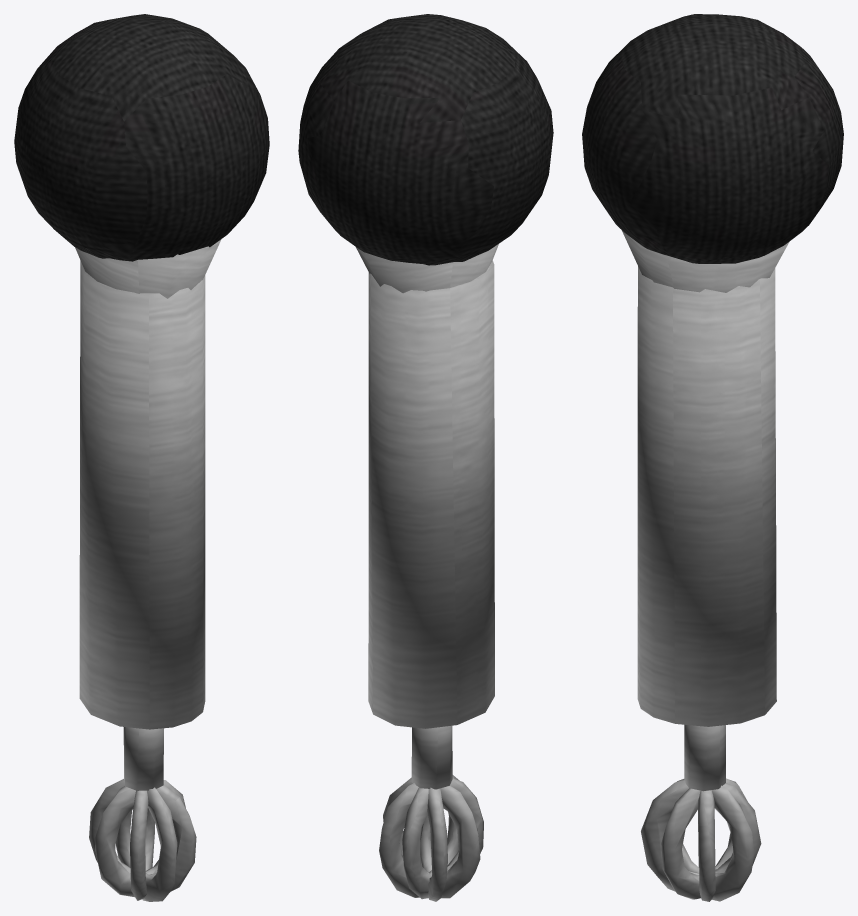
The model's file is mice.dae.
3 views of the same model, side by side, from view 1: azimuth 30°, elevation 25°; view 2: azimuth 150°, elevation 25°; view 3: azimuth 270°, elevation 25° (orthographic).
Parts seen in each view (by area): view 1: Sphere_001, Sphere, Sphere_002; view 2: Sphere_001, Sphere, Sphere_002; view 3: Sphere_001, Sphere, Sphere_002.
Boxes of the visible parts, <box> form: Sphere_001: <box>75,239,221,729</box>; Sphere: <box>14,14,269,261</box>; Sphere_002: <box>89,727,196,901</box>; Sphere_001: <box>356,244,498,728</box>; Sphere: <box>298,14,553,265</box>; Sphere_002: <box>379,725,483,901</box>; Sphere_001: <box>621,230,789,726</box>; Sphere: <box>582,14,843,263</box>; Sphere_002: <box>641,724,761,901</box>.
Bounding box in the file's own units: 0.2622 × 0.2683 × 0.9899.
Materials: 3 (3 with a texture image).
